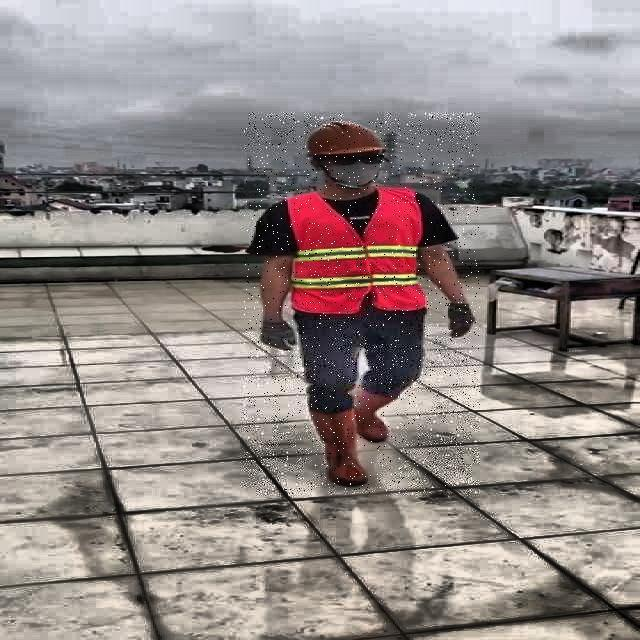safety_helmet: (306, 120, 386, 156)
safety_jacket: (283, 192, 427, 315)
